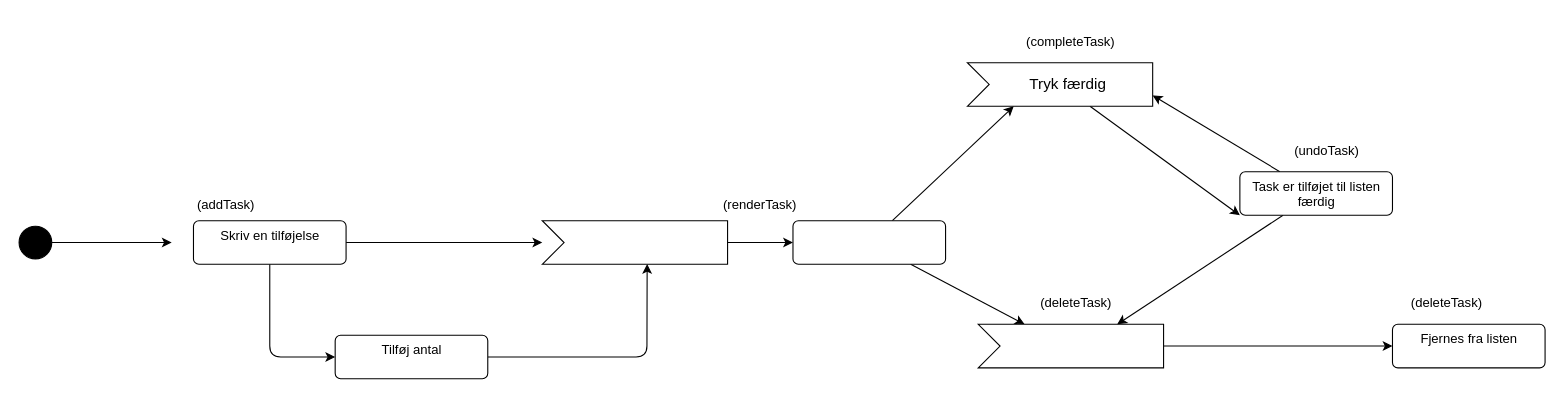
Some shapes in this 1564 by 398 pixel diagram are drawn without their labels. The centre of each missing label's shape, as x and y in pixels:
Task er tilføjet til listen to-do: the point at 869,242
Tryk slet: the point at 1070,345
Tryk tilføj: the point at 634,242
